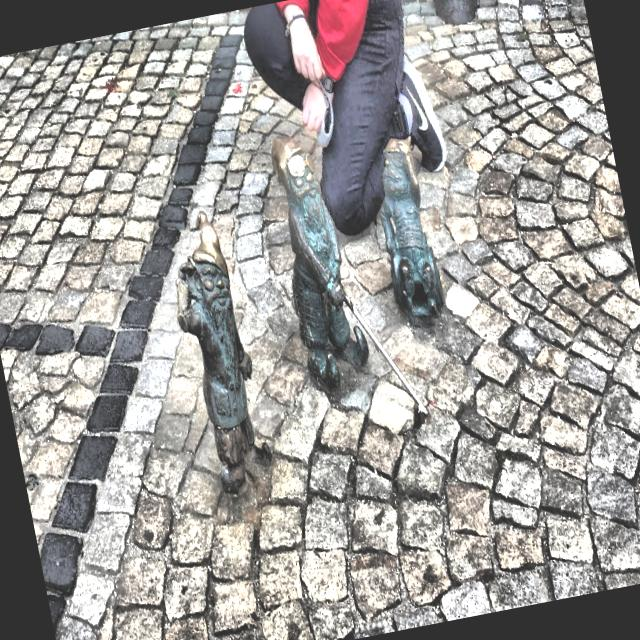Gluchak: (177, 211, 275, 494)
Slepak: (272, 139, 430, 417)
W-Skers: (381, 140, 445, 325)
